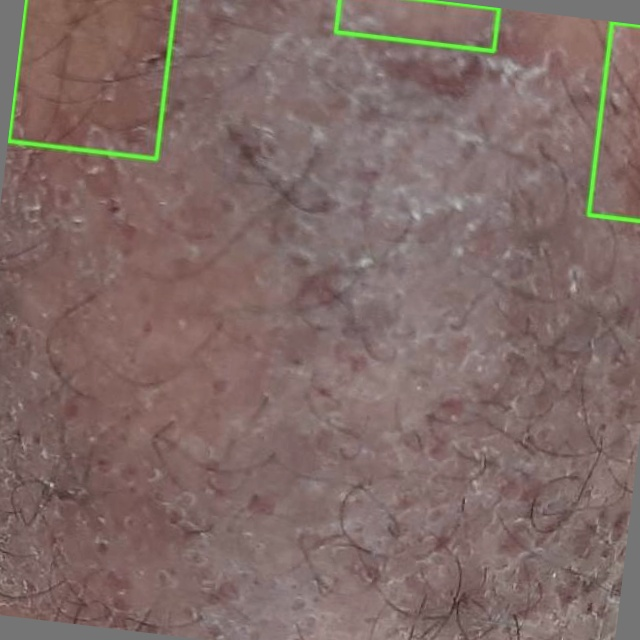Eczema: (8, 0, 175, 158), (336, 0, 499, 50)
